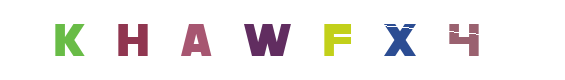4: (360, 0, 440, 80)
A: (231, 0, 311, 80)
F: (260, 0, 340, 80)
H: (176, 0, 256, 80)
K: (27, 0, 107, 80)
W: (245, 0, 325, 80)
X: (295, 0, 375, 80)
